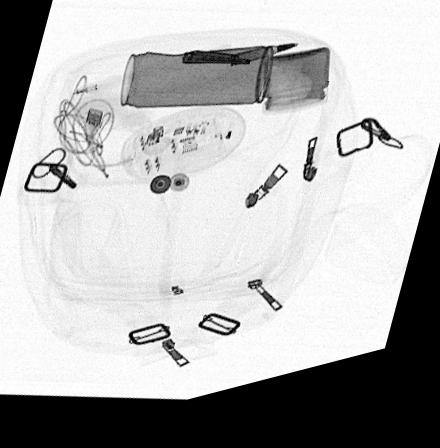Bullet: (228, 57, 300, 78)
